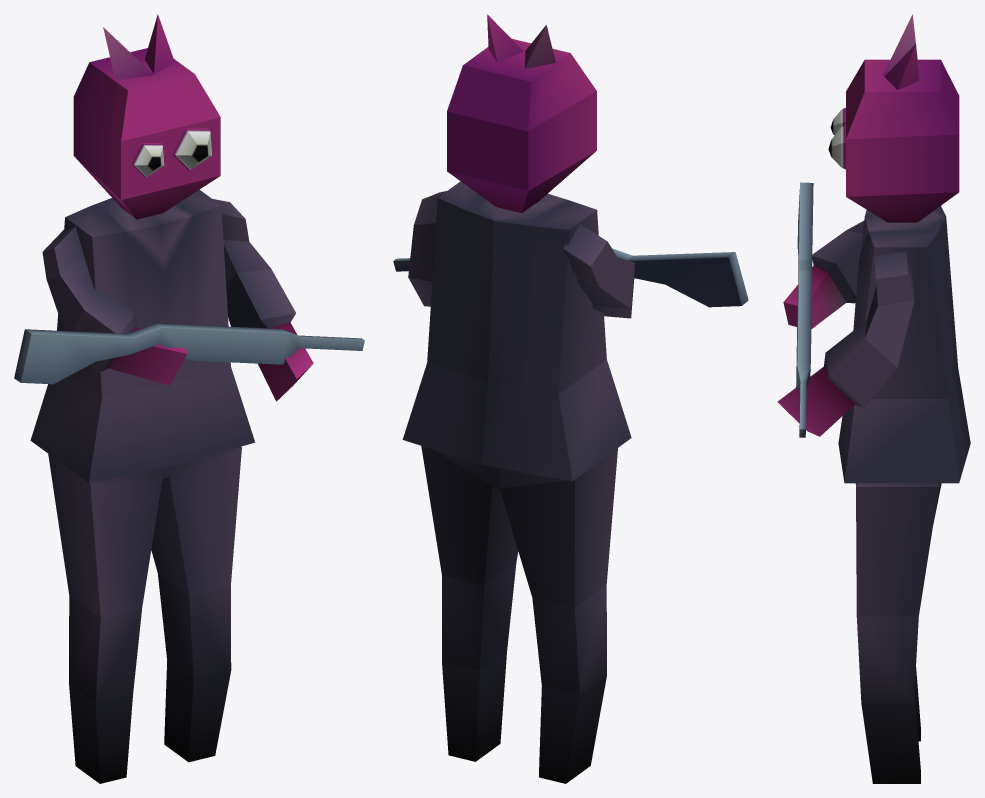
The model's file is enforcer.obj.
3 renders of one model, left to right at view 1: azimuth 30°, elevation 25°; view 2: azimuth 150°, elevation 25°; view 3: azimuth 270°, elevation 25°, orthographic. The views are drawn at different scales.
Parts seen in each view (by area): view 1: enforcer_body, enforcer_Feet_Right, enforcer_Feet_Left, enforcer_head; view 2: enforcer_body, enforcer_Feet_Right, enforcer_head, enforcer_Feet_Left; view 3: enforcer_body, enforcer_Feet_Left, enforcer_head.
Boxes of the visible parts, x1,y1,x2,y2 form: enforcer_body: (14,189,364,482); enforcer_Feet_Right: (48,454,162,783); enforcer_Feet_Left: (151,446,241,762); enforcer_head: (73,14,220,219); enforcer_body: (393,181,748,488); enforcer_Feet_Right: (499,448,617,783); enforcer_head: (447,14,596,213); enforcer_Feet_Left: (421,446,518,761); enforcer_body: (777,182,970,483); enforcer_Feet_Left: (855,483,941,783); enforcer_head: (828,14,959,222).
Bounding box in the file's own units: 4.42 × 9.01 × 2.18.
